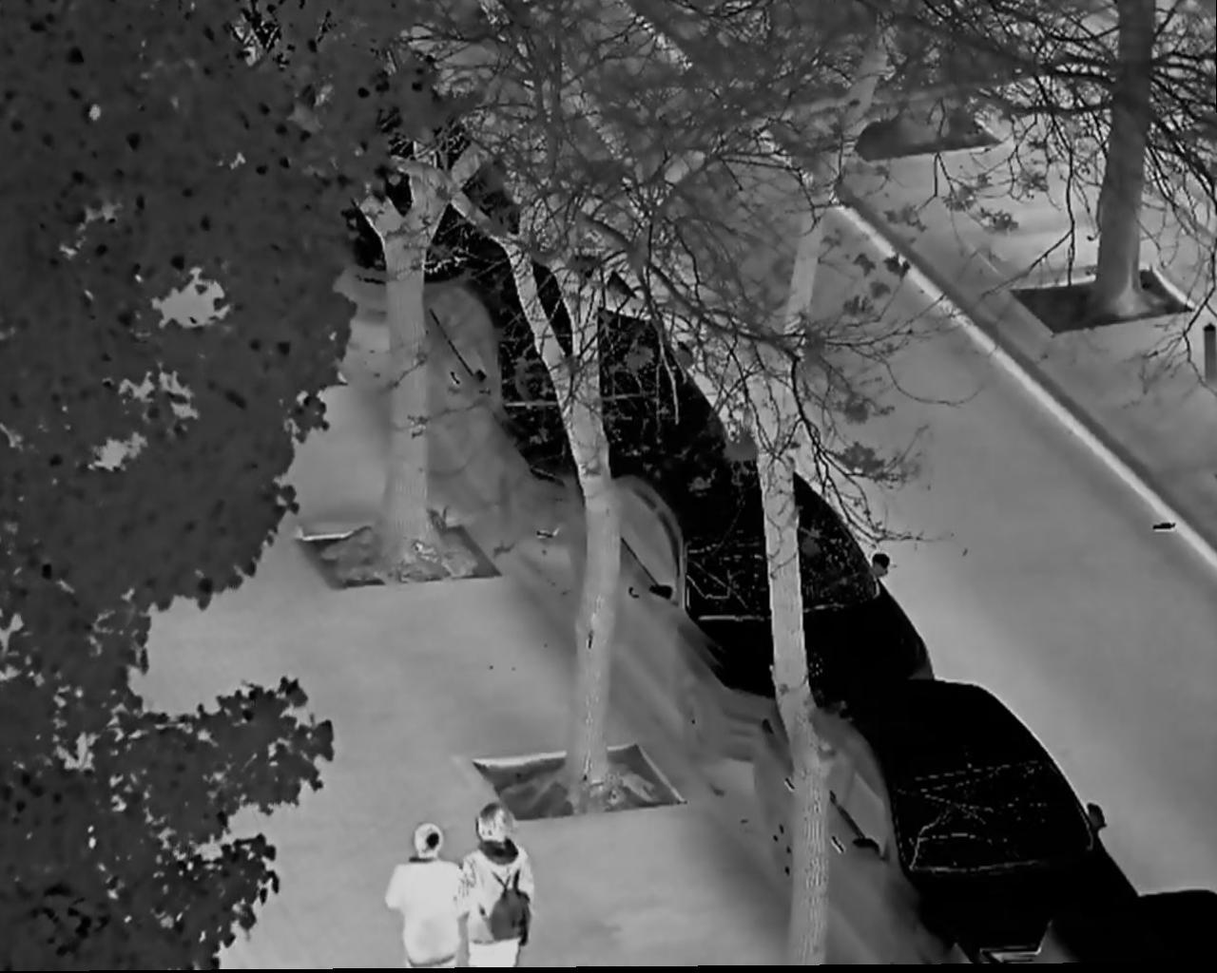person: (387, 824, 471, 970), (464, 807, 534, 966)
